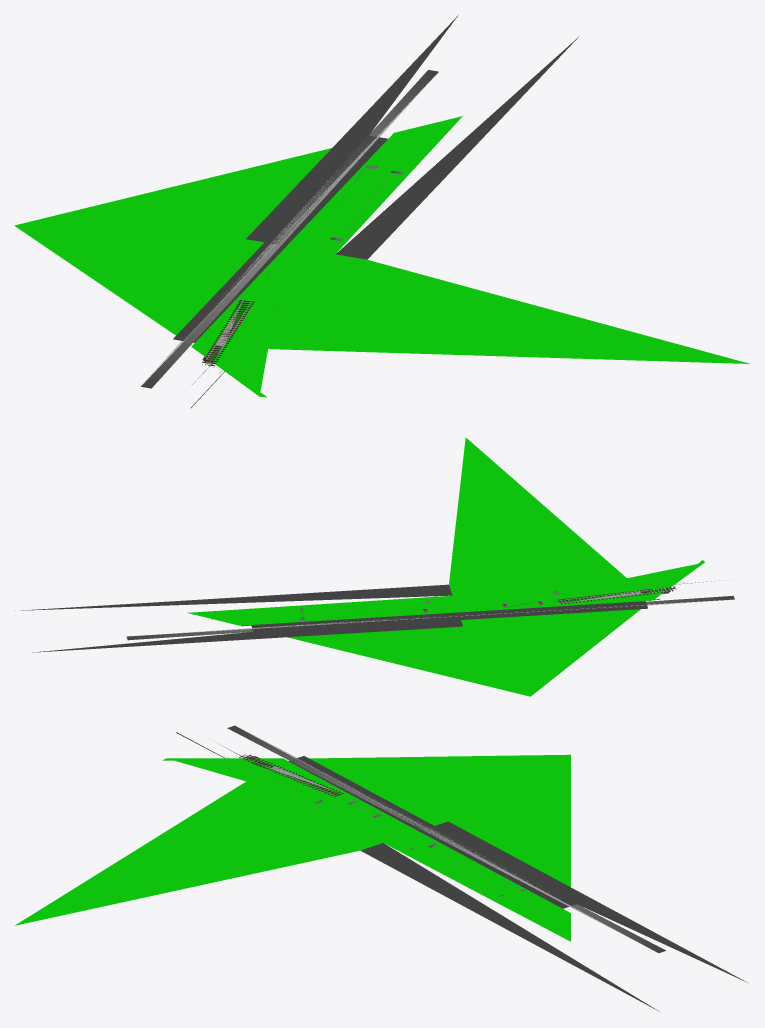
The picture shows the model from 3 angles, top to bottom: view 1: azimuth 30°, elevation 25°; view 2: azimuth 150°, elevation 25°; view 3: azimuth 270°, elevation 25°; orthographic projection. The views are drawn at different scales.
Bounding box in the file's own units: 138 × 0.3478 × 149.
